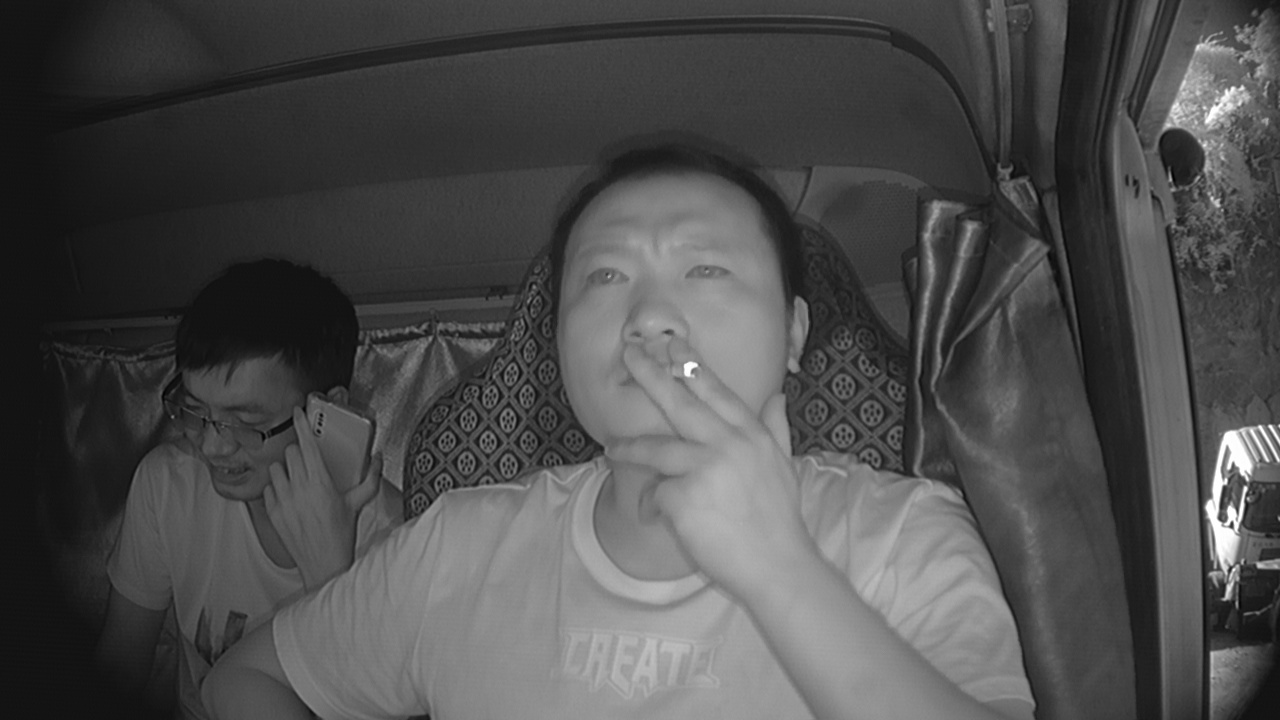hand: (623, 339, 796, 548)
